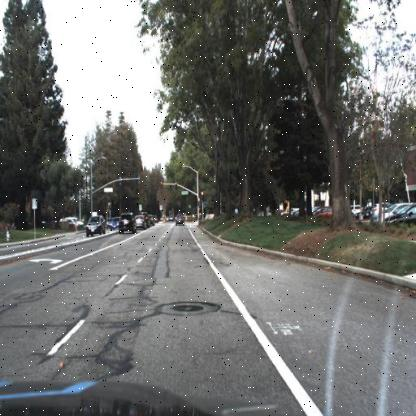car: (379, 201, 415, 230), (308, 201, 338, 221), (84, 213, 105, 239), (84, 214, 106, 238), (115, 212, 138, 234), (119, 213, 136, 234), (134, 212, 147, 230), (173, 208, 187, 223), (136, 214, 146, 227)
trafficLight-Red: (198, 187, 206, 203), (174, 181, 178, 195), (159, 179, 163, 192)
